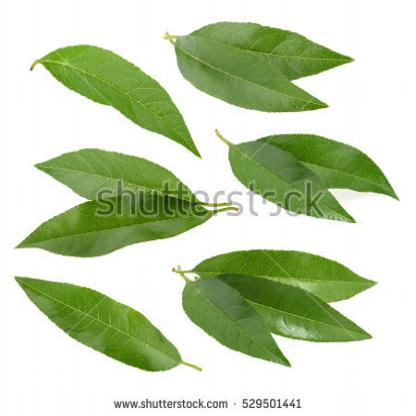peach leaf: (30, 38, 197, 152), (12, 275, 181, 373), (16, 194, 212, 262), (177, 29, 331, 114), (196, 247, 381, 307), (226, 141, 352, 225), (222, 272, 373, 342), (181, 274, 291, 365), (272, 131, 400, 200), (218, 20, 359, 79), (36, 142, 170, 198)
